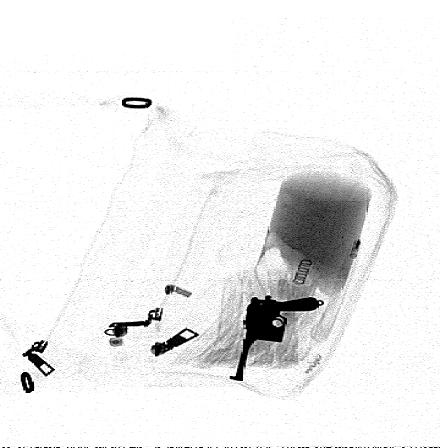Gun: (228, 291, 321, 381)
